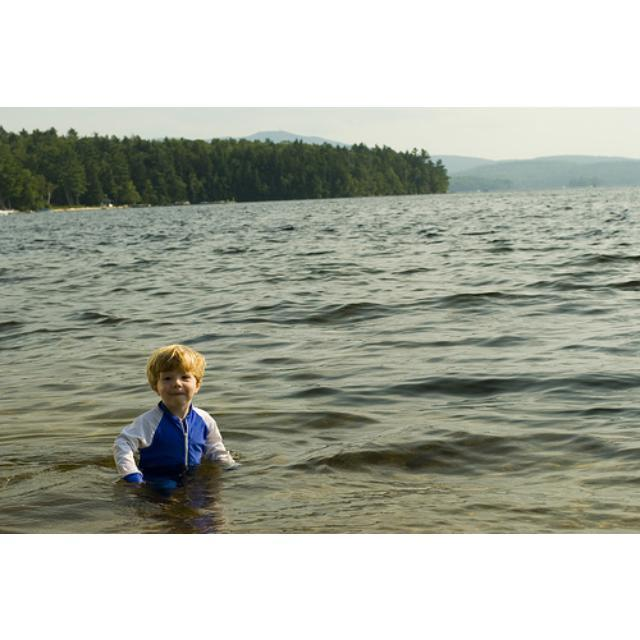human: (111, 343, 239, 487)
